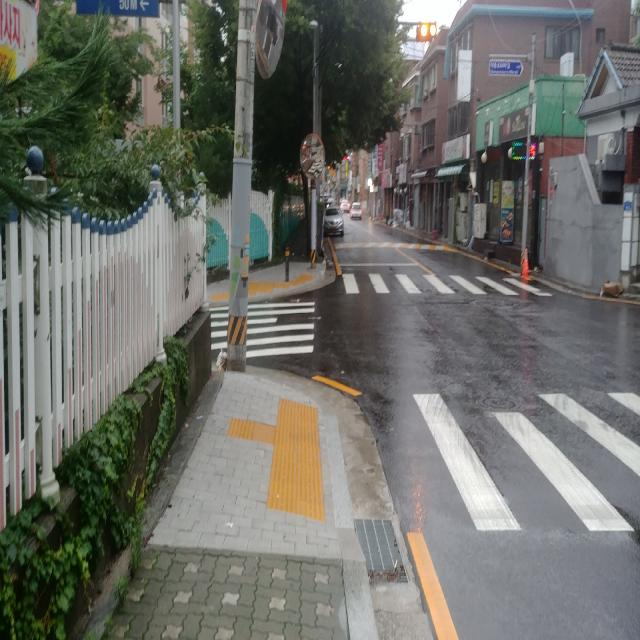횡단보도: (405, 382, 640, 535), (342, 260, 544, 298), (208, 301, 316, 359)
